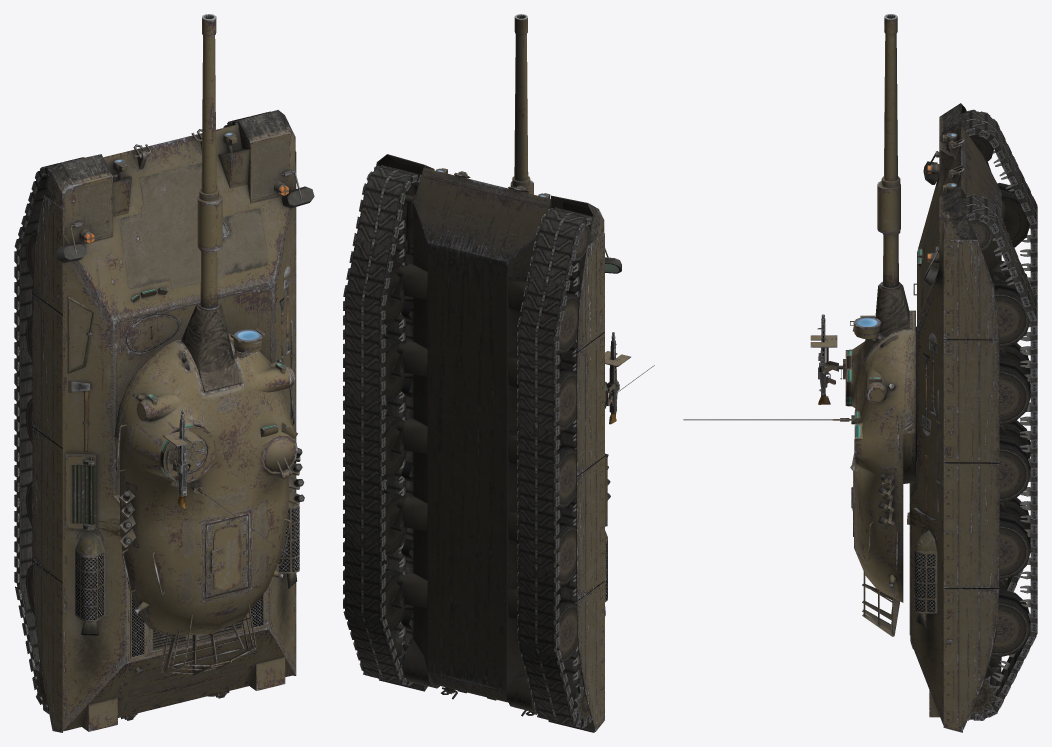
3 renders of one model, left to right at view 1: azimuth 30°, elevation 25°; view 2: azimuth 150°, elevation 25°; view 3: azimuth 270°, elevation 25°, orthographic. The views are drawn at different scales.
Visible parts, largest first — view 1: hull, turret_01, chassis_track_L, turret_01_hide_elements, gun_01, gun_01_mask, hull_hide_elements; view 2: hull, chassis_track_R, chassis_track_L, gun_01, chassis_wheel_L_04, chassis_wheel_L_06, chassis_wheel_L_08, chassis_wheel_L_10, turret_01_hide_elements, chassis_wheel_L_02, chassis_wheel_R_06, chassis_wheel_R_08 (+4 smaller); view 3: hull, turret_01, chassis_track_R, gun_01, chassis_track_L, turret_01_hide_elements, gun_01_mask, chassis_wheel_R_10, chassis_wheel_R_08, chassis_wheel_R_04, chassis_wheel_R_06, chassis_wheel_R_02 (+3 smaller).
Boxes of the visible parts, <box> form: hull: <box>32,110,314,732</box>; turret_01: <box>114,333,297,635</box>; chassis_track_L: <box>14,157,84,713</box>; turret_01_hide_elements: <box>119,409,304,676</box>; gun_01: <box>197,14,222,308</box>; gun_01_mask: <box>181,302,265,372</box>; hull_hide_elements: <box>67,266,294,451</box>; hull: <box>376,154,621,732</box>; chassis_track_R: <box>343,165,421,685</box>; chassis_track_L: <box>517,207,592,728</box>; gun_01: <box>510,14,533,194</box>; chassis_wheel_L_04: <box>557,367,576,431</box>; chassis_wheel_L_06: <box>557,445,576,508</box>; chassis_wheel_L_08: <box>557,521,576,585</box>; chassis_wheel_L_10: <box>557,599,577,661</box>; turret_01_hide_elements: <box>605,332,630,500</box>; chassis_wheel_L_02: <box>557,292,578,353</box>; chassis_wheel_R_06: <box>383,414,407,477</box>; chassis_wheel_R_08: <box>383,491,407,554</box>; hull: <box>907,103,1006,732</box>; turret_01: <box>683,310,916,602</box>; chassis_track_R: <box>961,194,1037,720</box>; gun_01: <box>877,14,900,287</box>; chassis_track_L: <box>961,109,1037,592</box>; turret_01_hide_elements: <box>810,314,900,636</box>; gun_01_mask: <box>850,281,909,344</box>; chassis_wheel_R_10: <box>991,589,1030,657</box>; chassis_wheel_R_08: <box>999,511,1030,579</box>; chassis_wheel_R_04: <box>999,357,1030,425</box>; chassis_wheel_R_06: <box>999,434,1030,502</box>; chassis_wheel_R_02: <box>992,279,1030,347</box>.
Bounding box in the file's own units: 3.43 × 9.13 × 4.4.
Materials: 2 (2 with a texture image).
